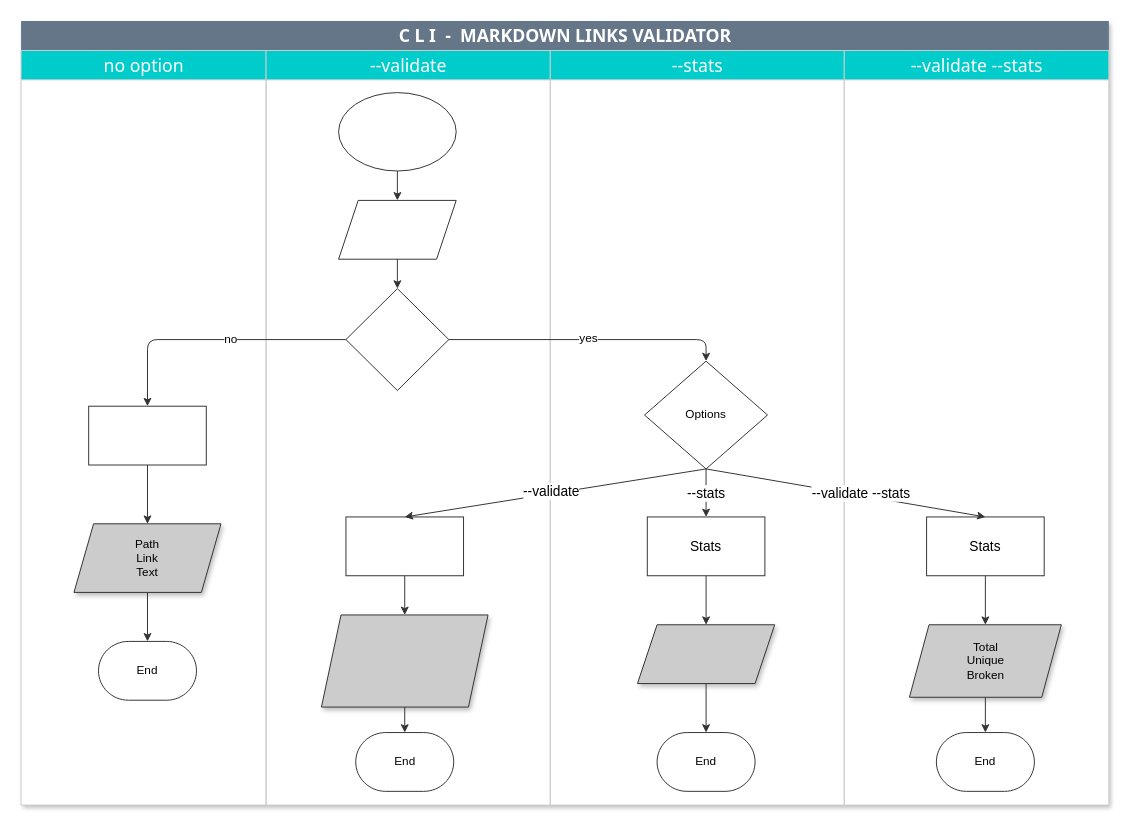
The diagram is 1131 pixels wide and 828 high, and some of its shapes have lost their labels. The shapes that lost their labels are listed below. From the top down, each one's centre as x and y in pixels, then its label:
At (397,131): "Start".
At (397,229): "Option".
At (397,339): "Is there any option?".
At (147,435): "List".
At (404,546): "Validate".
At (405,662): "Path Link Text Status, Status text Text".
At (707,655): "Total Unique".
